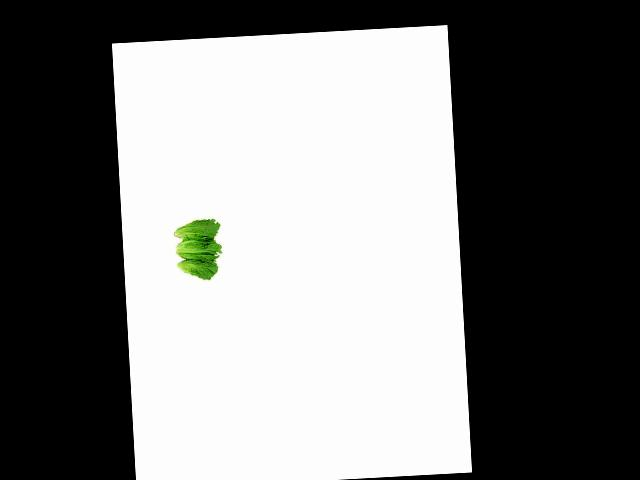lettuce: (166, 254, 220, 282)
